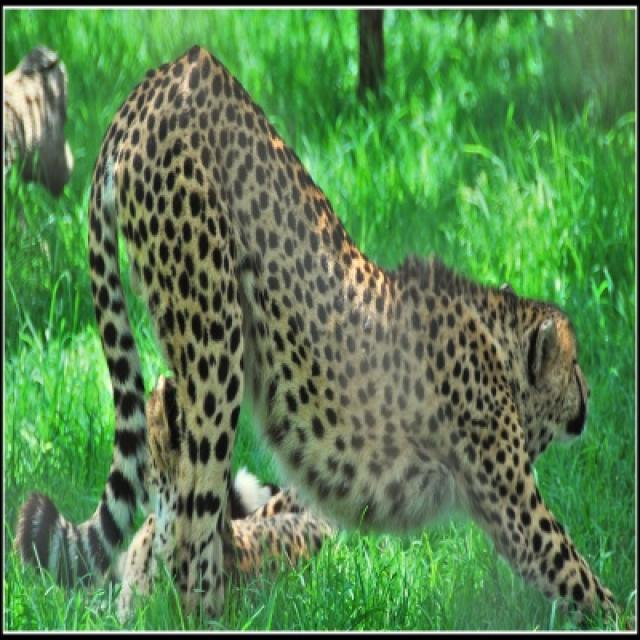Cheetah: (38, 45, 616, 624)
